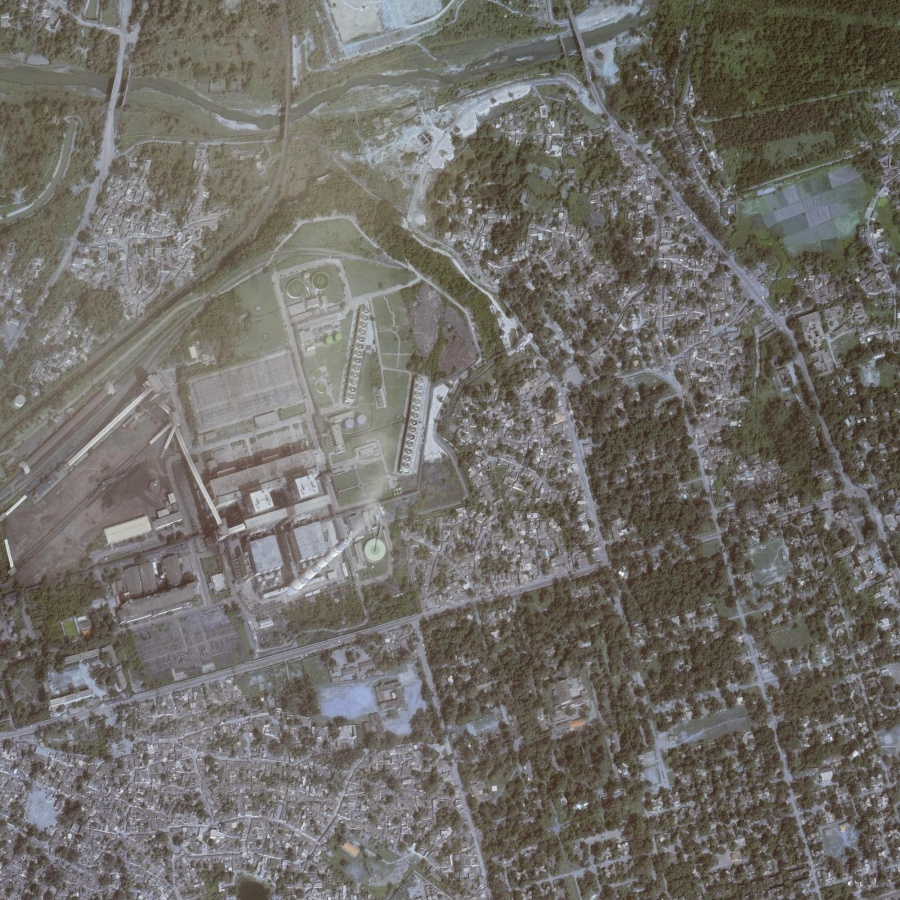PowerPlant: (1, 265, 443, 619)
